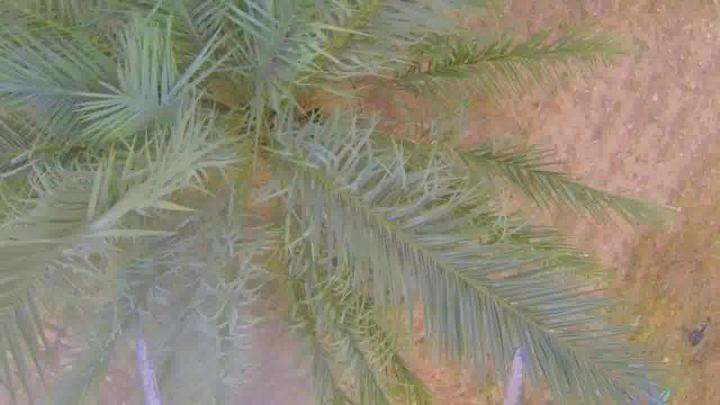Date-Palm-Crown: (12, 0, 530, 322)
